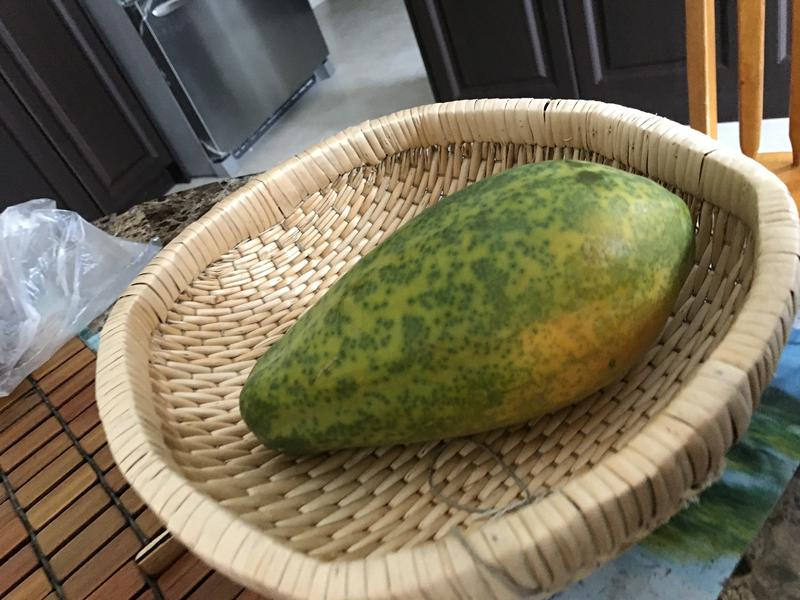papaya: (225, 149, 705, 468)
